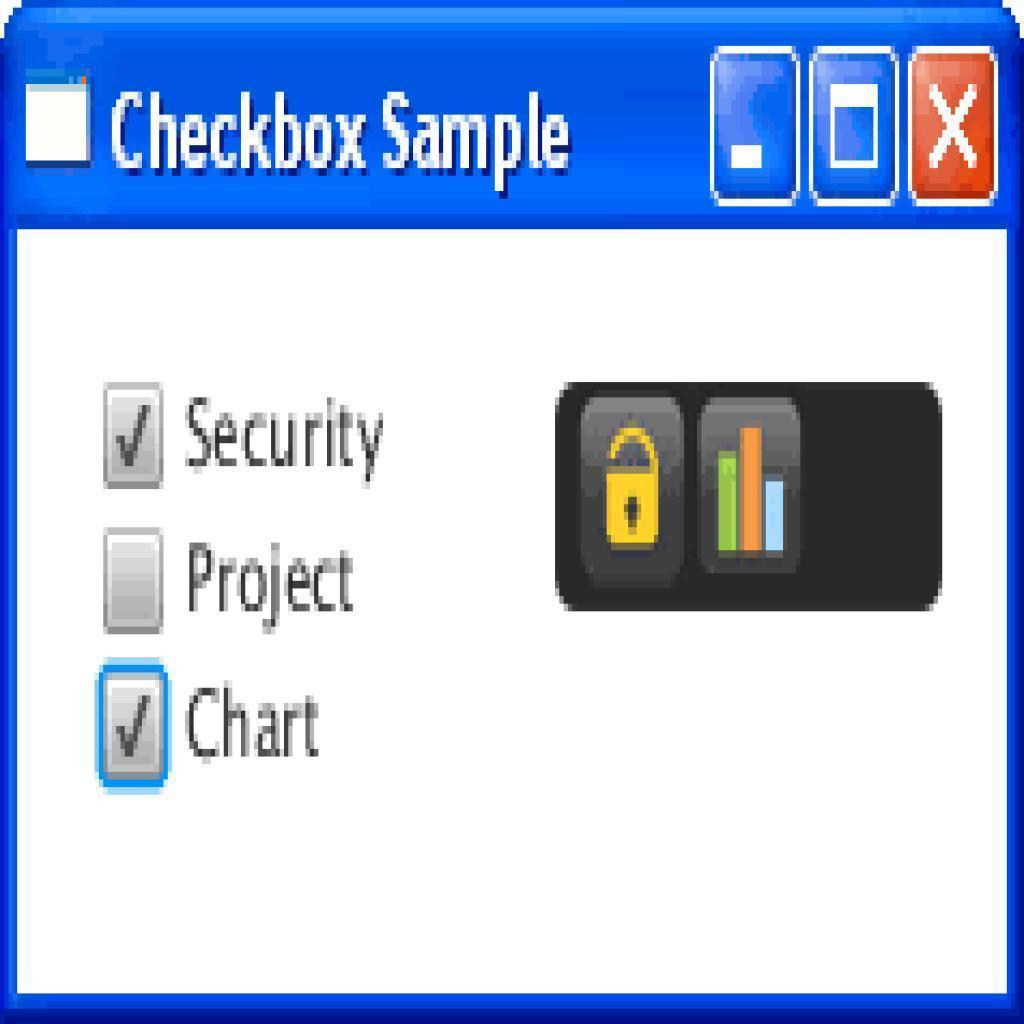checkbox: (101, 662, 173, 785), (101, 378, 167, 495), (100, 525, 166, 636)
